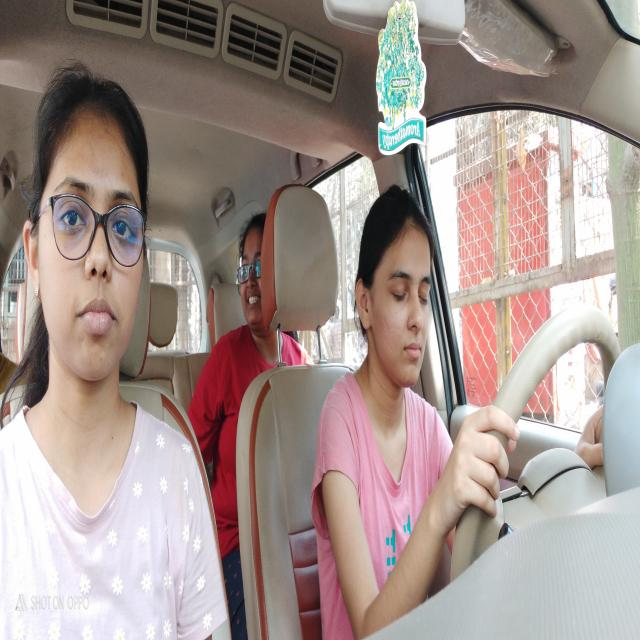drowsy: (354, 188, 436, 399)
person: (25, 62, 149, 412), (237, 205, 269, 352)
